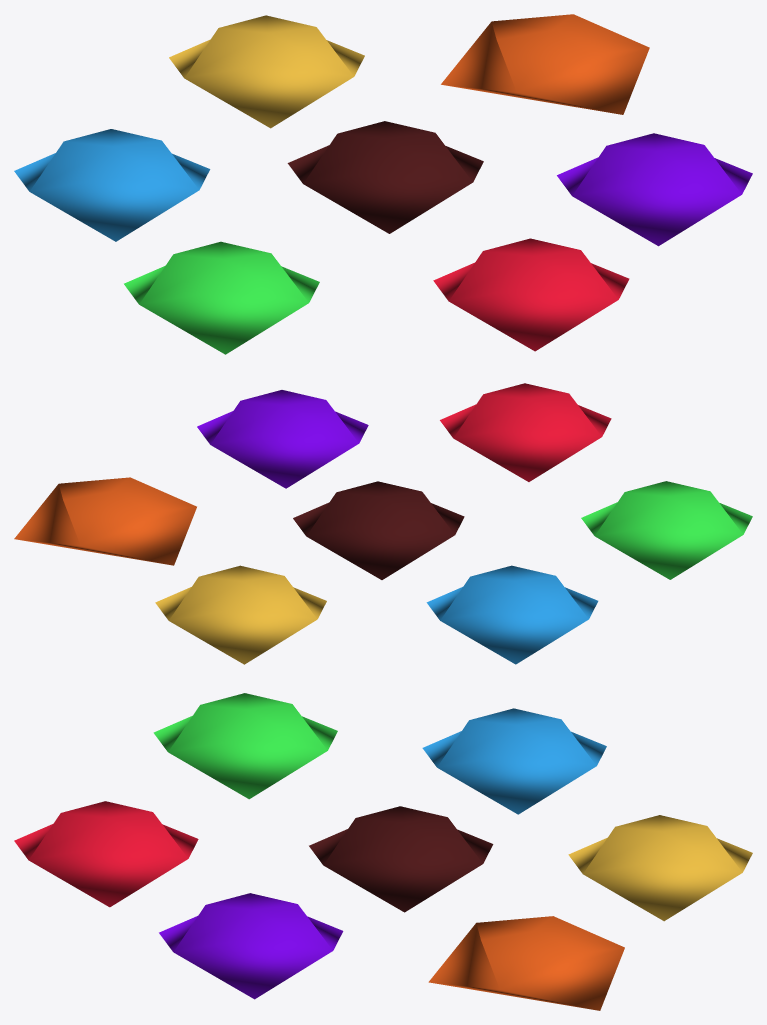
The model's file is M&M Tiles.fbx.
3 views of the same model, one above another, from view 1: azimuth 30°, elevation 25°; view 2: azimuth 150°, elevation 25°; view 3: azimuth 270°, elevation 25° (orthographic). The views are drawn at different scales.
Visible parts, largest first — view 1: Sphere.024; view 2: Sphere.024; view 3: Sphere.024.
Part boxes in pixels (left/top/right/bottom): Sphere.024: left=14, top=14, right=752, bottom=354; Sphere.024: left=14, top=383, right=752, bottom=664; Sphere.024: left=14, top=693, right=752, bottom=1010.
Bounding box in the file's own units: 328 × 23.02 × 346.
